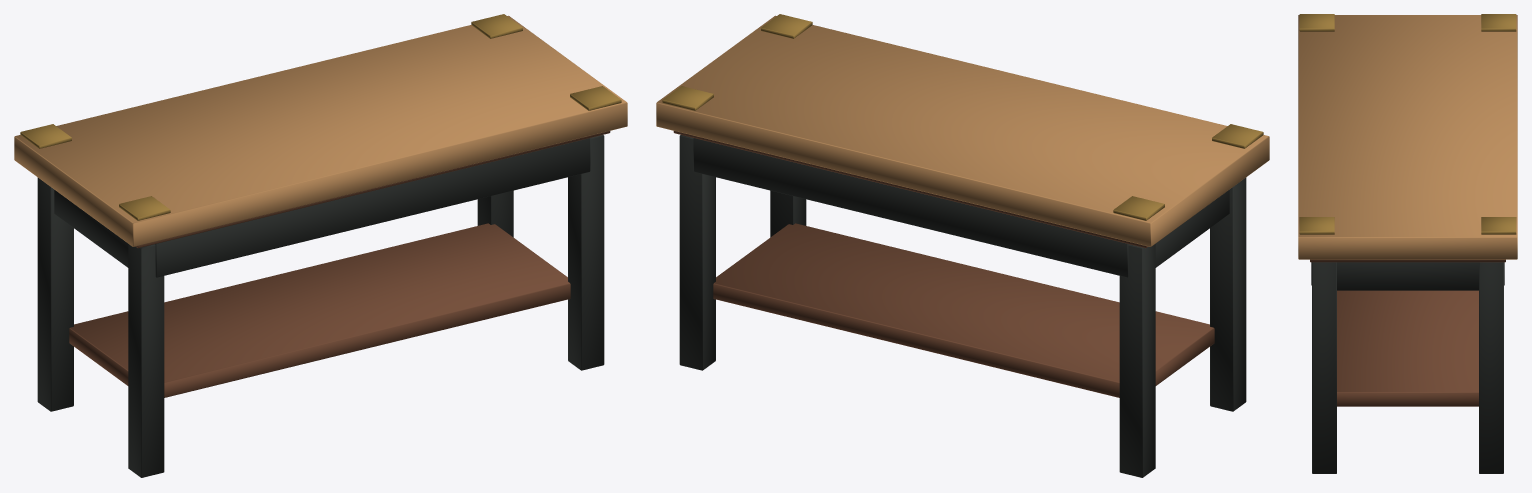
The model's file is asset_065_armA.glb.
3 views of the same model, side by side, from view 1: azimuth 30°, elevation 25°; view 2: azimuth 150°, elevation 25°; view 3: azimuth 270°, elevation 25° (orthographic). The views are drawn at different scales.
Parts seen in each view (by area): view 1: MESH_OakWorktop, MESH_LowerShelf, MESH_WorktableLegSet, MESH_WorktableApronFrame, MESH_WorktableCornerCapSet, MESH_WorktopDarkEdge; view 2: MESH_OakWorktop, MESH_LowerShelf, MESH_WorktableLegSet, MESH_WorktableApronFrame, MESH_WorktableCornerCapSet, MESH_WorktopDarkEdge; view 3: MESH_OakWorktop, MESH_LowerShelf, MESH_WorktableLegSet, MESH_WorktableApronFrame, MESH_WorktableCornerCapSet, MESH_WorktopDarkEdge.
Part boxes in pixels (left/top/right/bottom): MESH_OakWorktop: left=14, top=15, right=627, bottom=246; MESH_LowerShelf: left=69, top=223, right=570, bottom=397; MESH_WorktableLegSet: left=37, top=135, right=604, bottom=477; MESH_WorktableApronFrame: left=54, top=138, right=590, bottom=277; MESH_WorktableCornerCapSet: left=20, top=14, right=621, bottom=220; MESH_WorktopDarkEdge: left=136, top=131, right=610, bottom=248; MESH_OakWorktop: left=656, top=15, right=1269, bottom=246; MESH_LowerShelf: left=713, top=223, right=1214, bottom=397; MESH_WorktableLegSet: left=679, top=135, right=1246, bottom=477; MESH_WorktableApronFrame: left=693, top=138, right=1229, bottom=277; MESH_WorktableCornerCapSet: left=662, top=14, right=1263, bottom=220; MESH_WorktopDarkEdge: left=673, top=131, right=1147, bottom=248; MESH_OakWorktop: left=1298, top=15, right=1517, bottom=259; MESH_LowerShelf: left=1337, top=290, right=1478, bottom=406; MESH_WorktableLegSet: left=1312, top=262, right=1503, bottom=473; MESH_WorktableApronFrame: left=1311, top=262, right=1504, bottom=290; MESH_WorktableCornerCapSet: left=1299, top=14, right=1516, bottom=234; MESH_WorktopDarkEdge: left=1310, top=259, right=1505, bottom=262.
Bounding box in the file's own units: 1.8 × 0.932 × 0.75.
